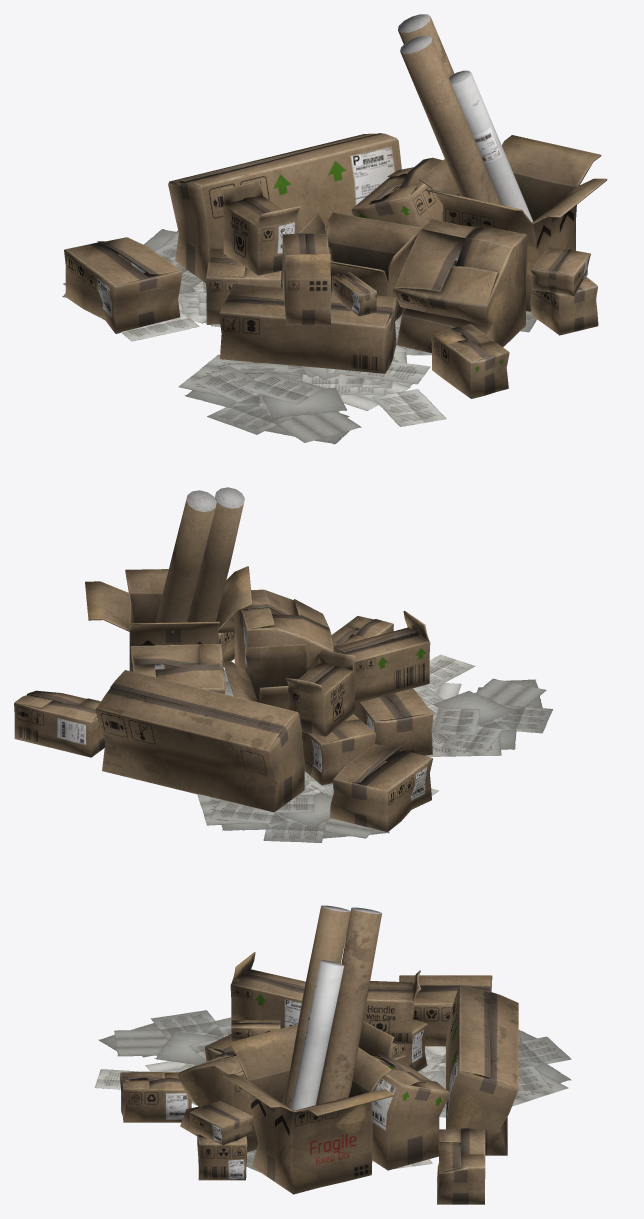
Rendered from paper0.obj.
The picture shows the model from 3 angles, top to bottom: view 1: azimuth 30°, elevation 25°; view 2: azimuth 150°, elevation 25°; view 3: azimuth 270°, elevation 25°; orthographic projection. The views are drawn at different scales.
Visible parts, largest first — view 1: Cardboard_low_Cylinder.013, Plane.002; view 2: Cardboard_low_Cylinder.013, Plane.002; view 3: Cardboard_low_Cylinder.013, Plane.002.
Part boxes in pixels (x1,y1,x2,y2): Cardboard_low_Cylinder.013: (64, 14, 607, 398); Plane.002: (62, 229, 536, 444); Cardboard_low_Cylinder.013: (14, 487, 433, 831); Plane.002: (197, 654, 553, 842); Cardboard_low_Cylinder.013: (120, 905, 518, 1204); Plane.002: (94, 1010, 571, 1172).
Bounding box in the file's own units: 3.68 × 1.78 × 4.22.
Materials: 2 (2 with a texture image).
